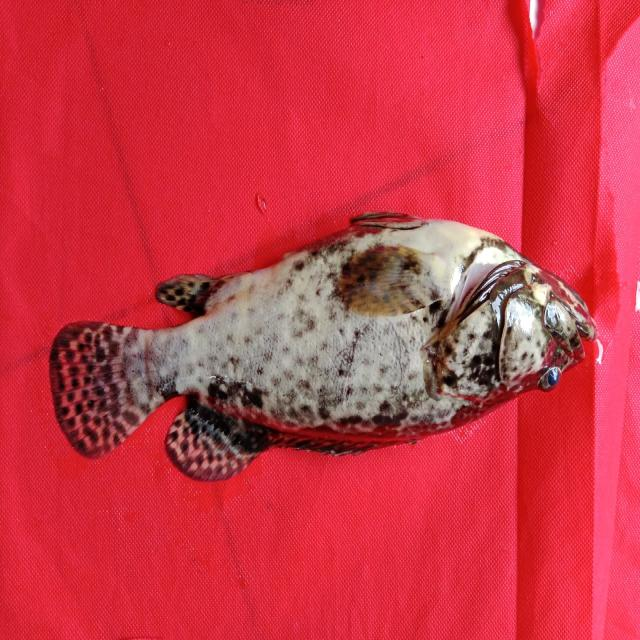ikan: (42, 192, 613, 500)
